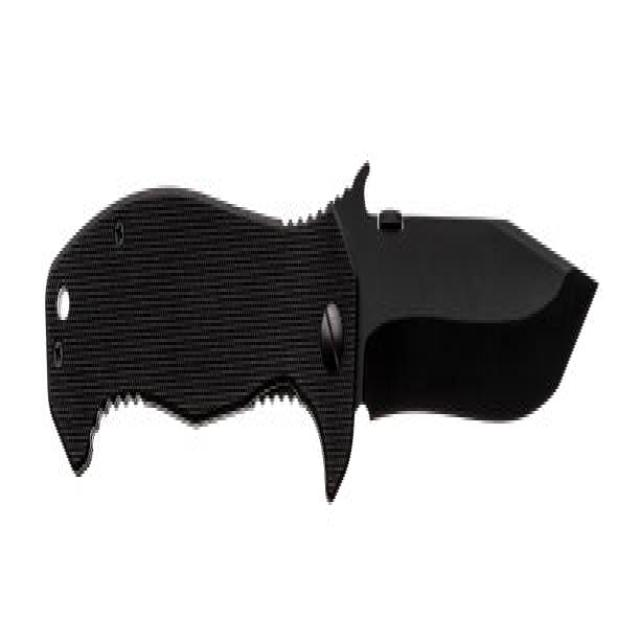knife: (45, 159, 604, 506)
